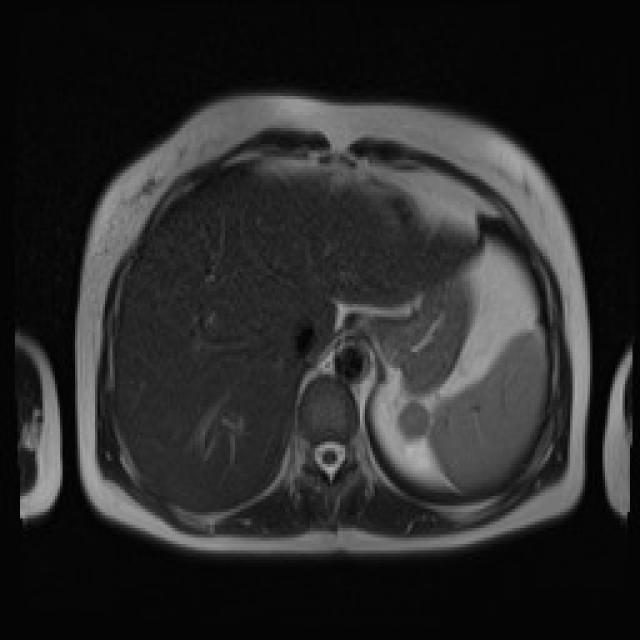sol: (396, 401, 431, 458)
